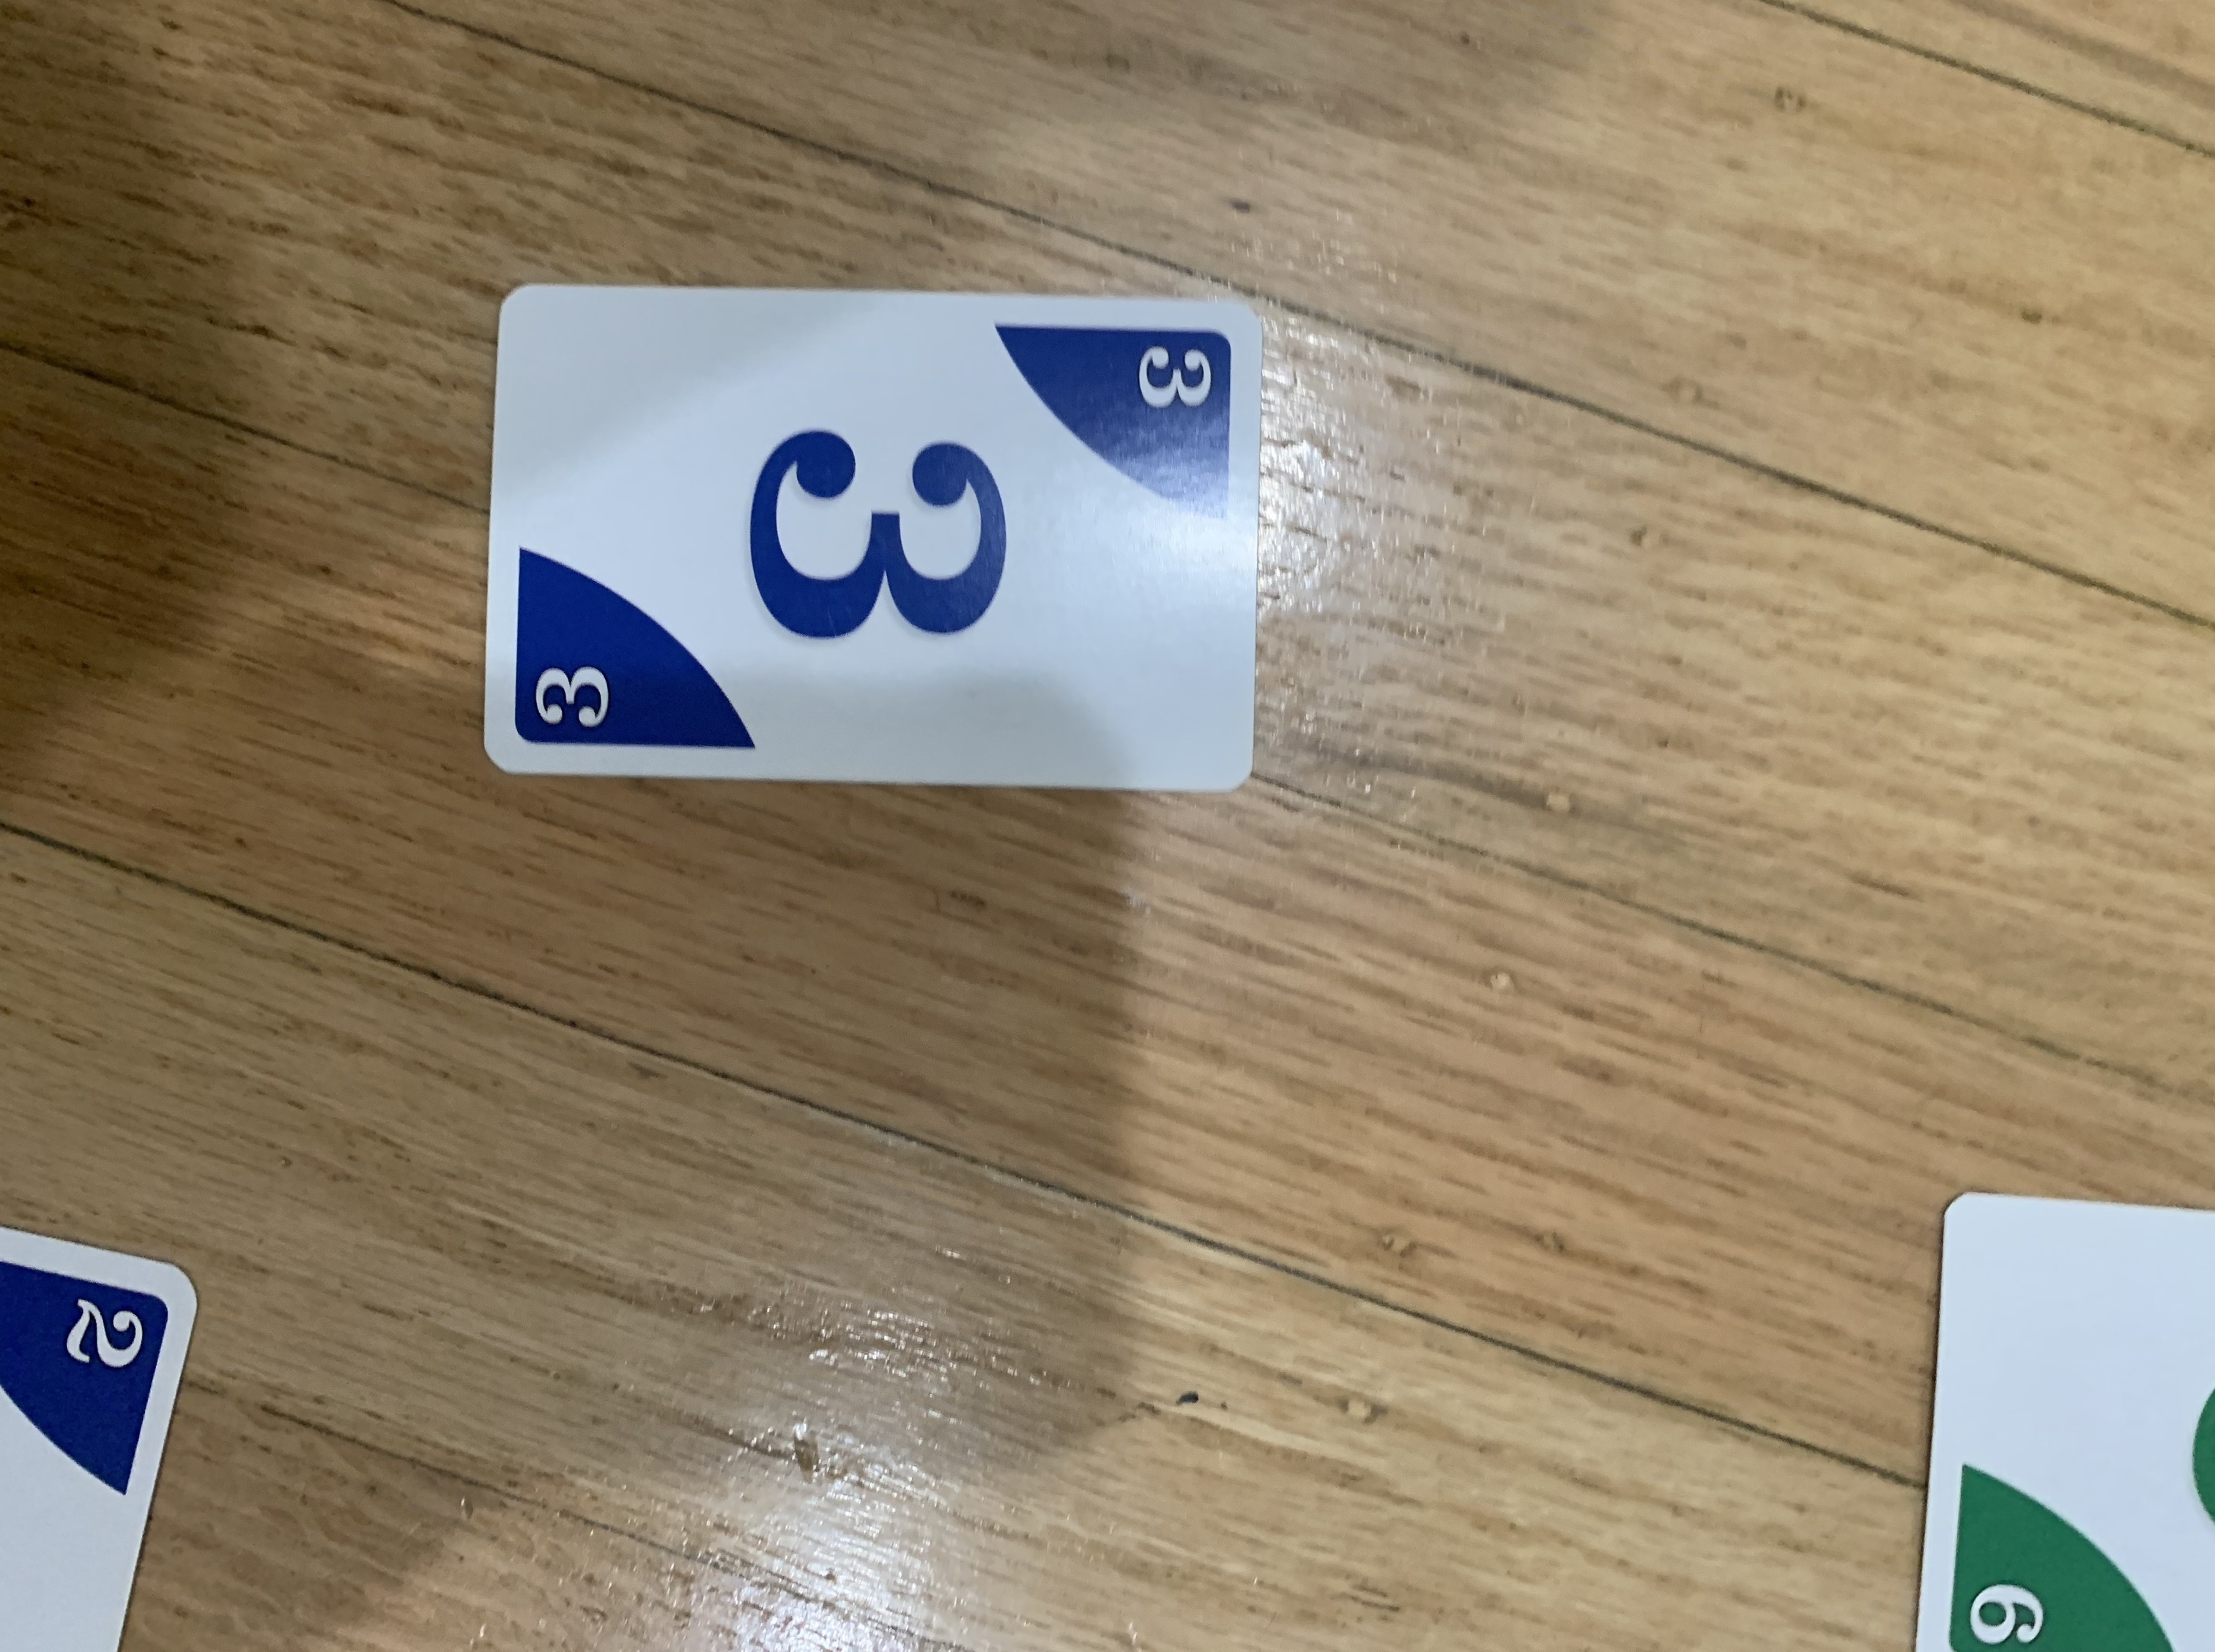three: (470, 269, 1298, 802)
